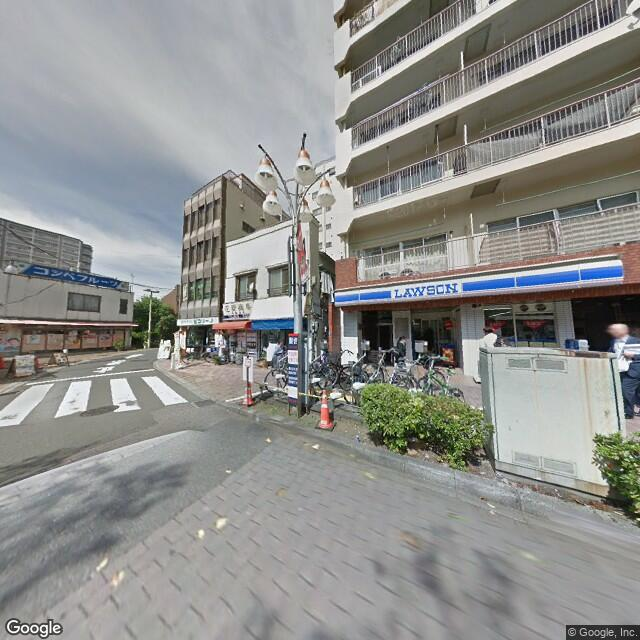lawson: (332, 255, 626, 310)
